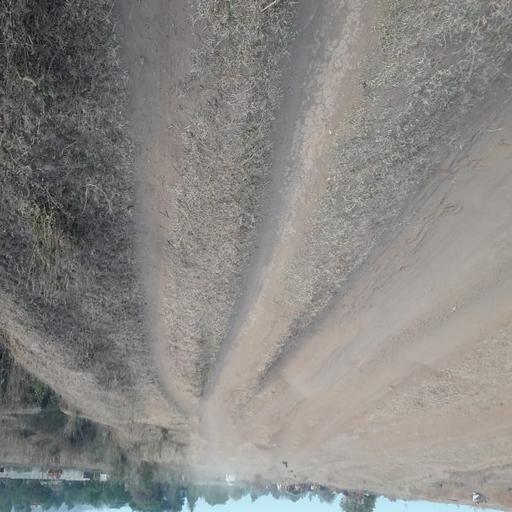vehicle_track: (277, 93, 512, 401), (218, 0, 395, 361), (117, 0, 195, 410), (323, 276, 512, 427)
